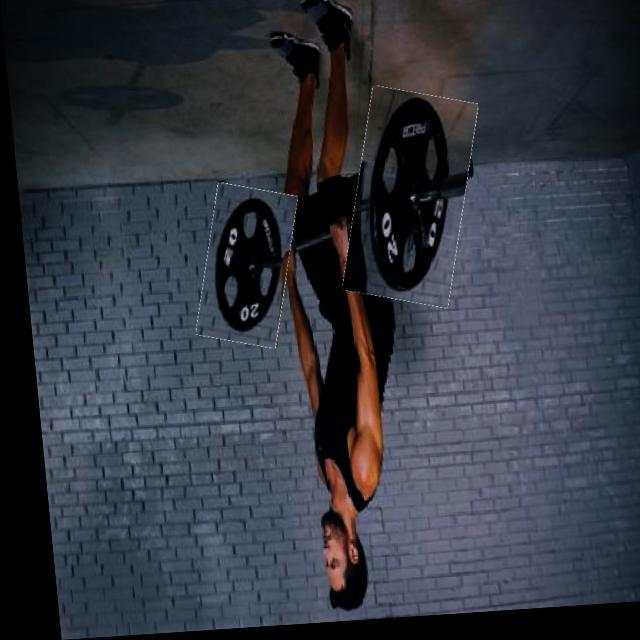barbell: (334, 91, 480, 315), (188, 186, 297, 353)
